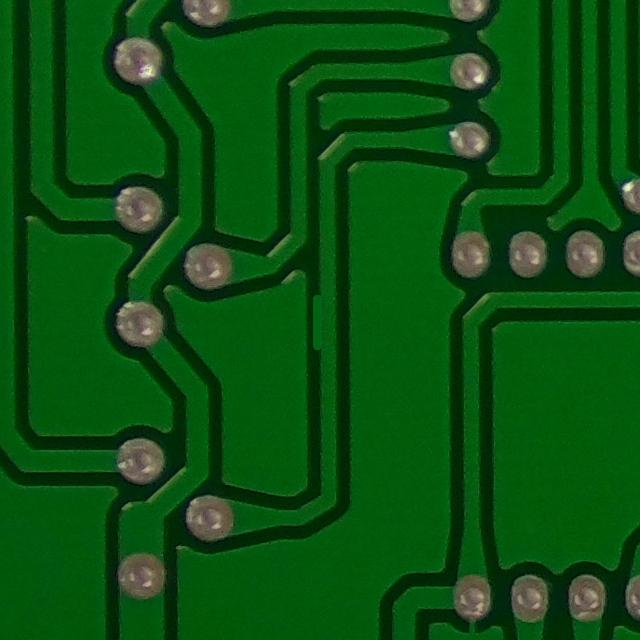spur: (303, 282, 338, 358)
